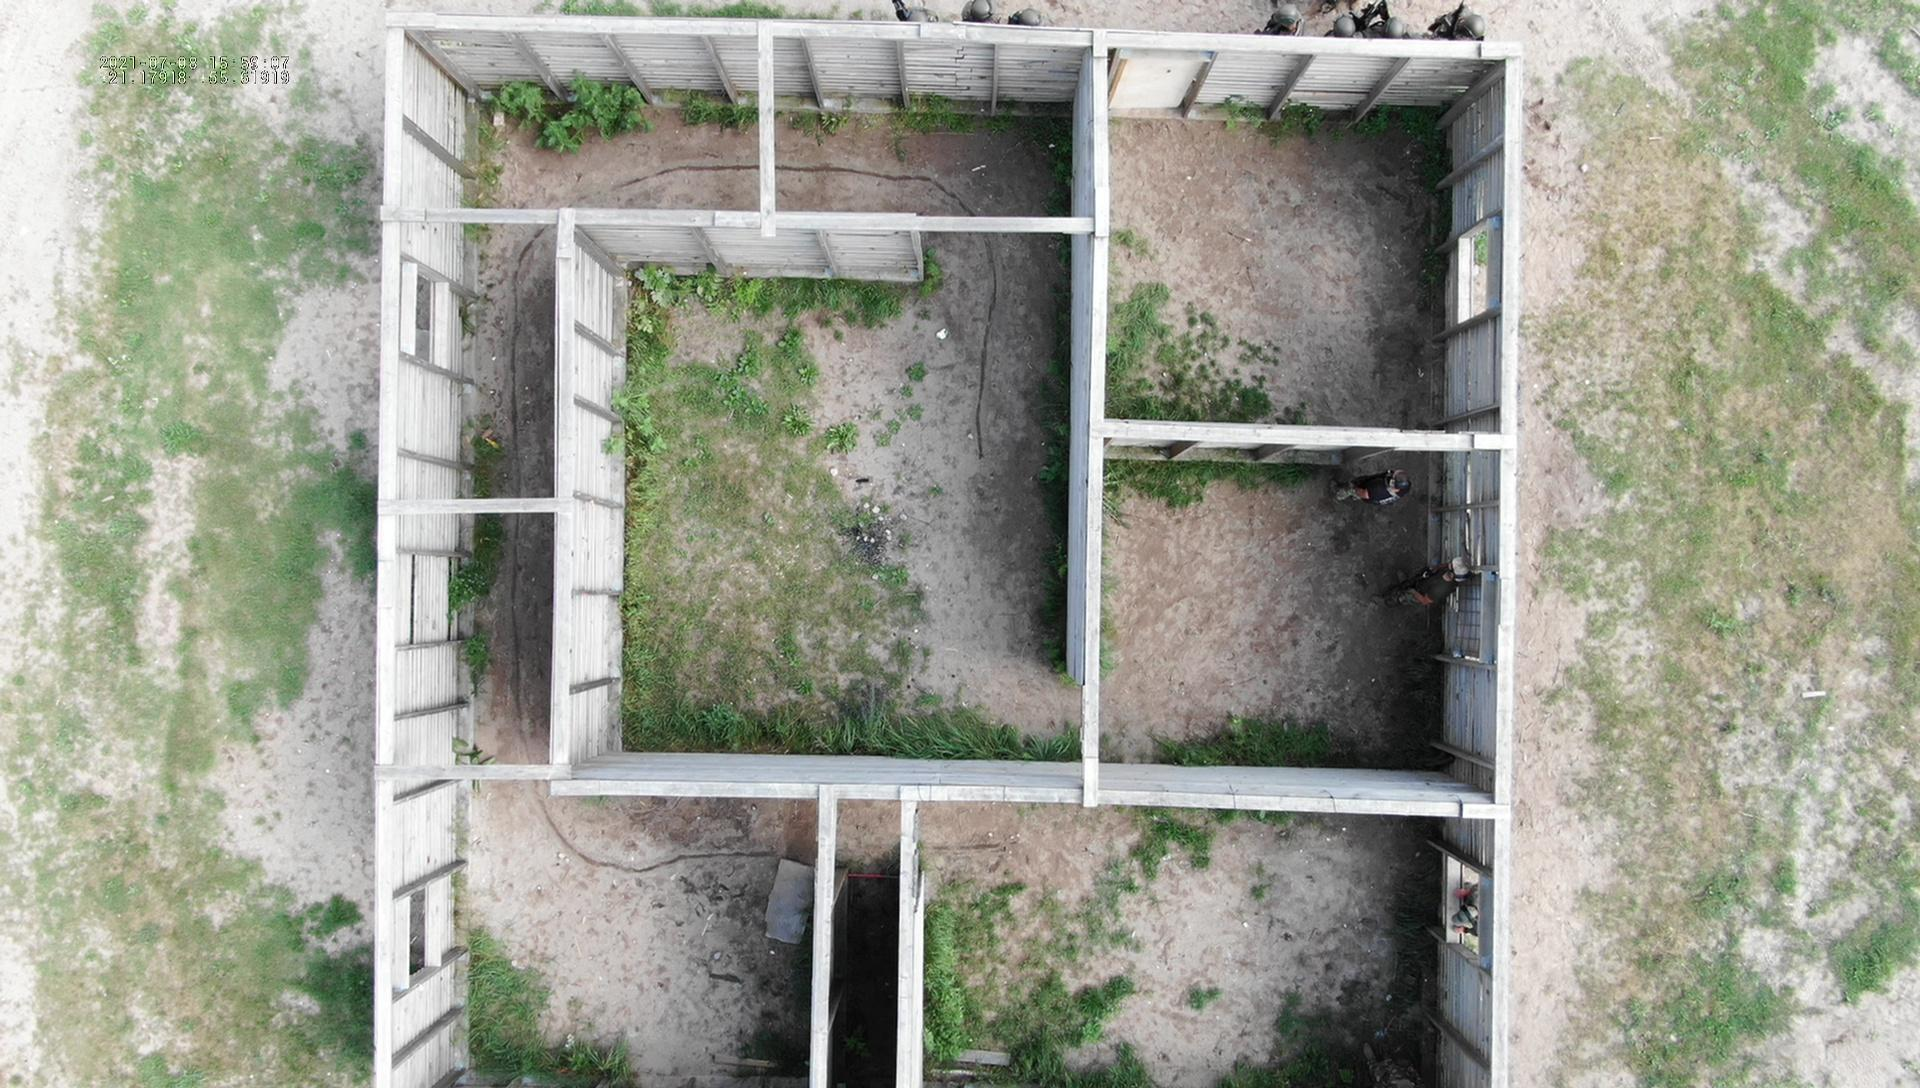Soldier: (1364, 545, 1477, 630), (1333, 460, 1431, 518), (1261, 0, 1312, 57), (1428, 3, 1486, 45), (1348, 3, 1393, 41), (1371, 0, 1403, 40), (961, 0, 992, 25)
